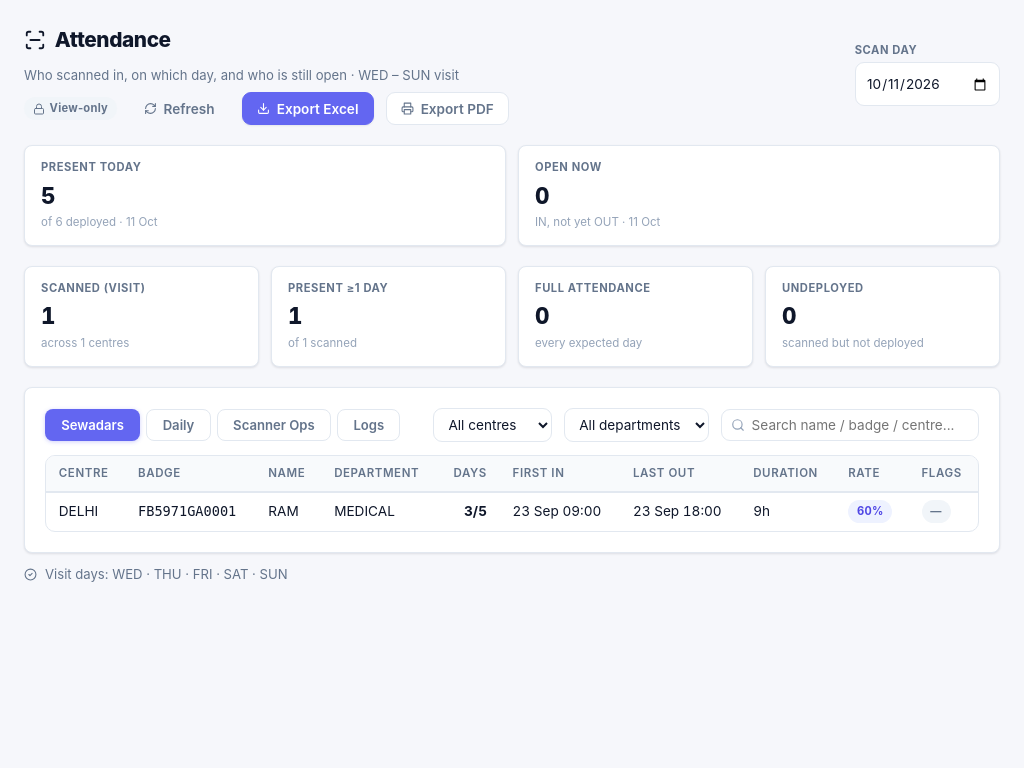
Test: A10 — the tab list is not role-gated › offers all four tabs and lets the RPC decide the rows
The width and height of the screenshot is (1024, 768).
Expected: the button "Sewadars" is shown, x1=45 y1=408 x2=140 y2=441
Expected: the button "Daily" is shown, x1=146 y1=408 x2=211 y2=441
What coordinates should you click on to do the following:
click the button "Scanner Ops"
I would click on:
 (274, 425)
Its box is x1=217 y1=408 x2=331 y2=441.
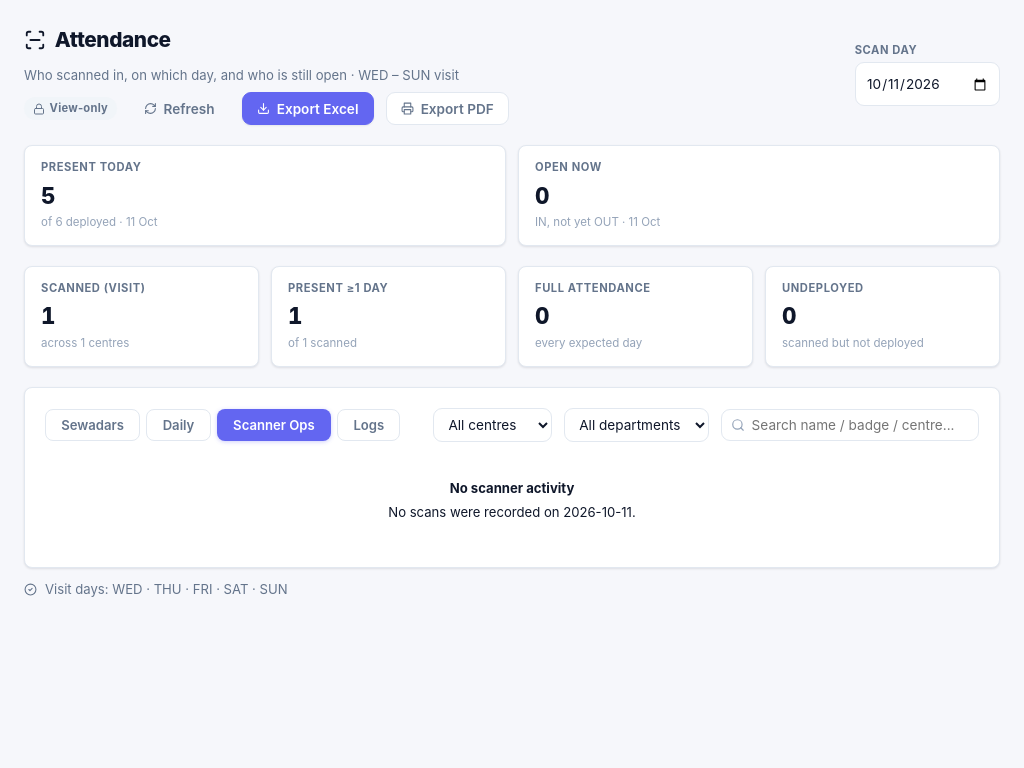
Expected: the text "No scanner activity" is shown, x1=450 y1=480 x2=574 y2=496
